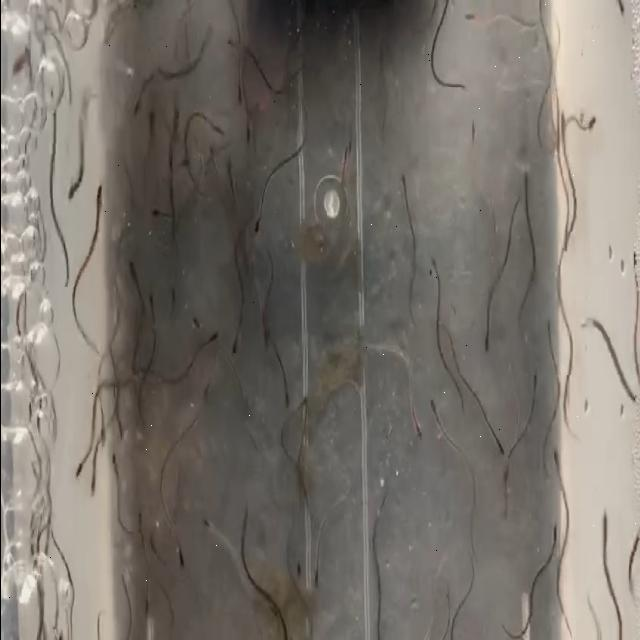active_glass_eel: (486, 412, 511, 468), (387, 156, 418, 200), (598, 507, 618, 558), (480, 312, 504, 353), (198, 508, 218, 554), (404, 397, 422, 448), (548, 446, 570, 486), (579, 302, 595, 356), (136, 568, 154, 616), (250, 294, 272, 332), (424, 396, 442, 441), (202, 370, 222, 410), (169, 531, 189, 571), (88, 182, 106, 226), (580, 115, 604, 147), (229, 62, 249, 100), (426, 249, 448, 282), (228, 309, 244, 354), (70, 437, 86, 482), (109, 442, 125, 486), (289, 542, 302, 596), (558, 292, 572, 342), (524, 371, 542, 409), (124, 264, 142, 302), (248, 207, 268, 240), (86, 469, 102, 510), (243, 112, 260, 150), (274, 366, 294, 398), (134, 518, 150, 558), (375, 484, 390, 526), (546, 520, 560, 564), (514, 183, 536, 211), (221, 162, 239, 196), (542, 316, 558, 354), (149, 191, 165, 229), (310, 544, 322, 594), (294, 394, 312, 426), (202, 312, 218, 348), (153, 527, 168, 565), (624, 269, 640, 303), (139, 100, 161, 123), (66, 166, 82, 194), (142, 288, 156, 316), (205, 112, 219, 132)
